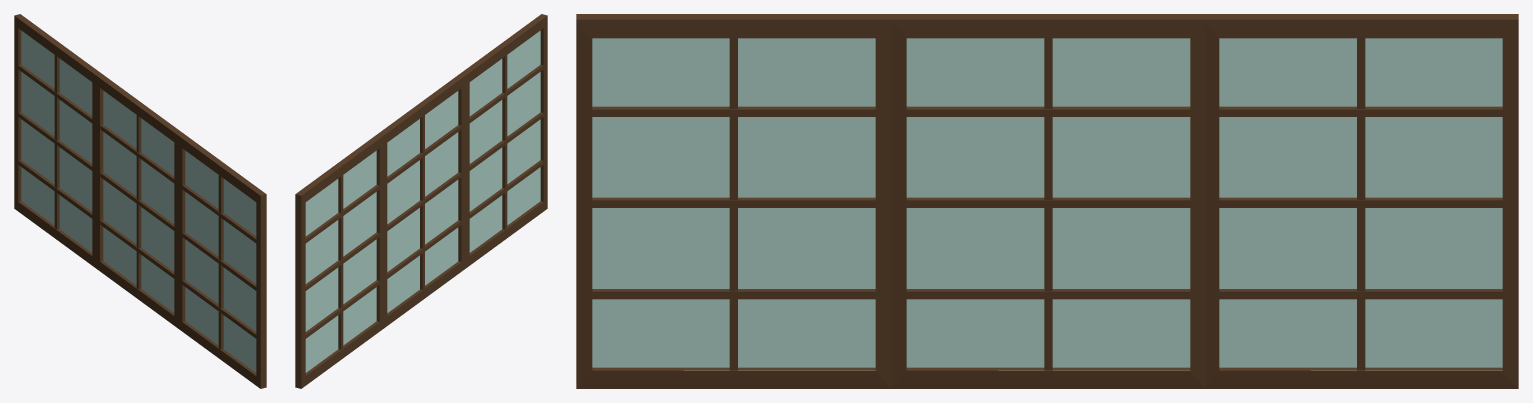
The model's file is glasswindows.fbx.
3 renders of one model, left to right at view 1: azimuth 30°, elevation 25°; view 2: azimuth 150°, elevation 25°; view 3: azimuth 270°, elevation 25°, orthographic. The views are drawn at different scales.
Visible parts, largest first — view 1: Plane, Plane.002, Plane.001, Cube.010, Cube, Cube.005, Cube.009, Cube.014, Cube.004, Cube.006, Cube.013, Cube.001 (+6 smaller); view 2: Plane.001, Plane.002, Plane, Cube.005, Cube, Cube.010, Cube.014, Cube.009, Cube.004, Cube.008, Cube.011, Cube.013 (+6 smaller); view 3: Plane, Plane.001, Plane.002, Cube.010, Cube, Cube.005, Cube.003, Cube.001, Cube.002, Cube.008, Cube.013, Cube.006 (+6 smaller).
Boxes of the visible parts, bbox=[...] form: Plane: bbox=[103, 90, 174, 312]; Plane.002: bbox=[185, 150, 256, 372]; Plane.001: bbox=[21, 30, 92, 252]; Cube.010: bbox=[178, 134, 266, 388]; Cube: bbox=[96, 74, 183, 328]; Cube.005: bbox=[14, 14, 102, 267]; Cube.009: bbox=[54, 55, 59, 229]; Cube.014: bbox=[218, 175, 223, 349]; Cube.004: bbox=[136, 115, 141, 289]; Cube.006: bbox=[18, 112, 92, 170]; Cube.013: bbox=[182, 280, 256, 338]; Cube.001: bbox=[100, 172, 174, 230]; Plane.001: bbox=[305, 150, 376, 372]; Plane.002: bbox=[469, 30, 540, 252]; Plane: bbox=[387, 91, 458, 312]; Cube.005: bbox=[295, 134, 383, 388]; Cube: bbox=[378, 74, 465, 328]; Cube.010: bbox=[459, 14, 547, 268]; Cube.014: bbox=[502, 55, 507, 229]; Cube.009: bbox=[338, 175, 343, 349]; Cube.004: bbox=[420, 115, 424, 289]; Cube.008: bbox=[305, 280, 379, 338]; Cube.011: bbox=[469, 112, 543, 170]; Cube.013: bbox=[469, 160, 543, 218]; Plane: bbox=[906, 38, 1190, 370]; Plane.001: bbox=[1219, 38, 1502, 370]; Plane.002: bbox=[592, 38, 875, 370]; Cube.010: bbox=[576, 14, 891, 388]; Cube: bbox=[891, 14, 1205, 388]; Cube.005: bbox=[1203, 14, 1518, 388]; Cube.003: bbox=[906, 289, 1190, 299]; Cube.001: bbox=[906, 197, 1190, 207]; Cube.002: bbox=[906, 106, 1190, 116]; Cube.008: bbox=[1219, 289, 1502, 299]; Cube.013: bbox=[592, 289, 875, 299]; Cube.006: bbox=[1219, 197, 1502, 207].
Size of the model in its own units: 55.79 by 1536 by 3552.
